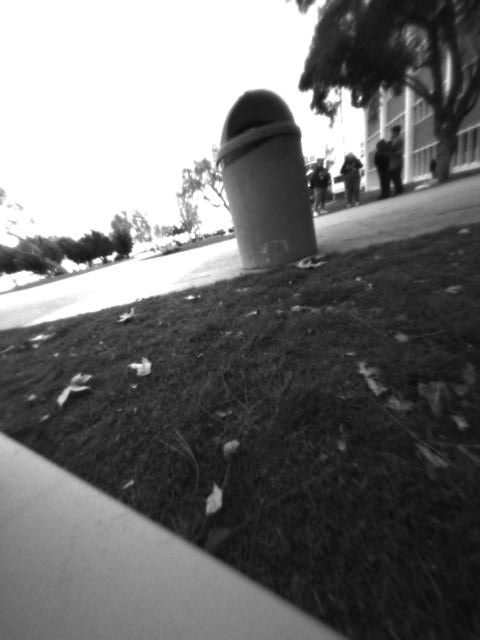trashcan: (215, 87, 321, 269)
